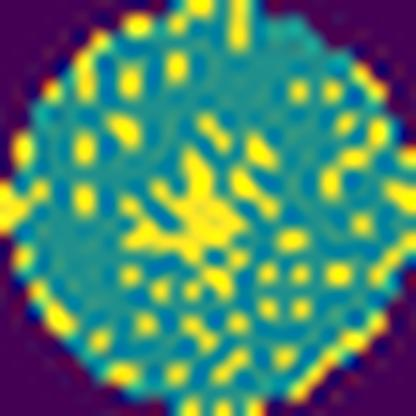Center: (117, 150, 252, 268)
